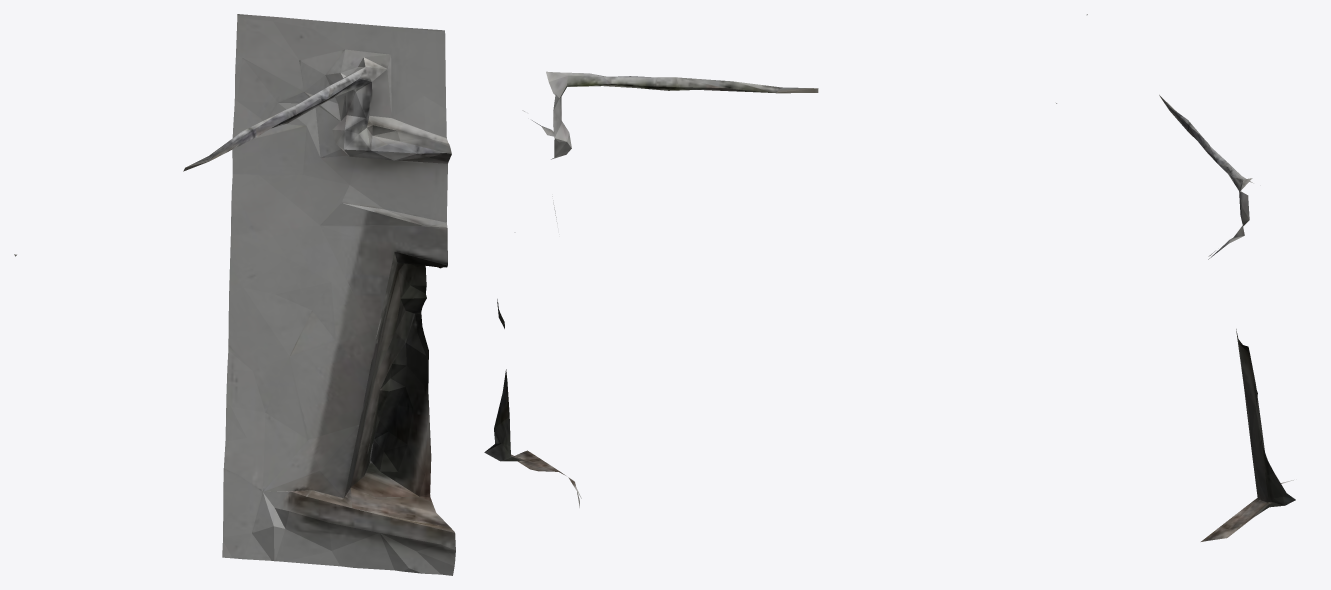
The picture shows the model from 3 angles, left to right: view 1: azimuth 30°, elevation 25°; view 2: azimuth 150°, elevation 25°; view 3: azimuth 270°, elevation 25°; orthographic projection. The views are drawn at different scales.
Bounding box in the file's own units: 3.35 × 3.35 × 1.74.
1 material, 1 textured.
